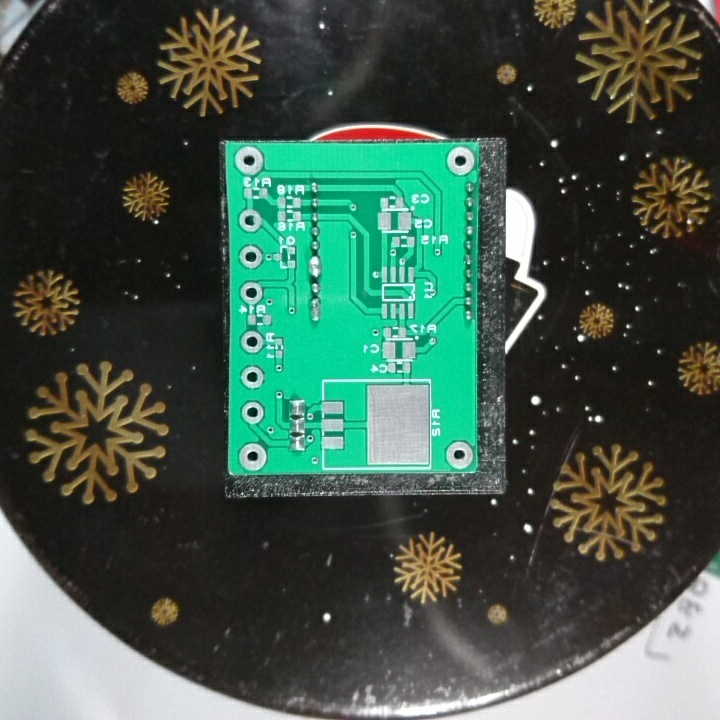F: (231, 144, 268, 176), (443, 144, 477, 177), (442, 436, 475, 469), (237, 443, 269, 471), (235, 207, 265, 234), (237, 365, 266, 392), (237, 244, 265, 271), (239, 398, 265, 427), (238, 280, 265, 306), (239, 329, 265, 356)
P: (306, 254, 324, 279), (308, 296, 324, 323)
